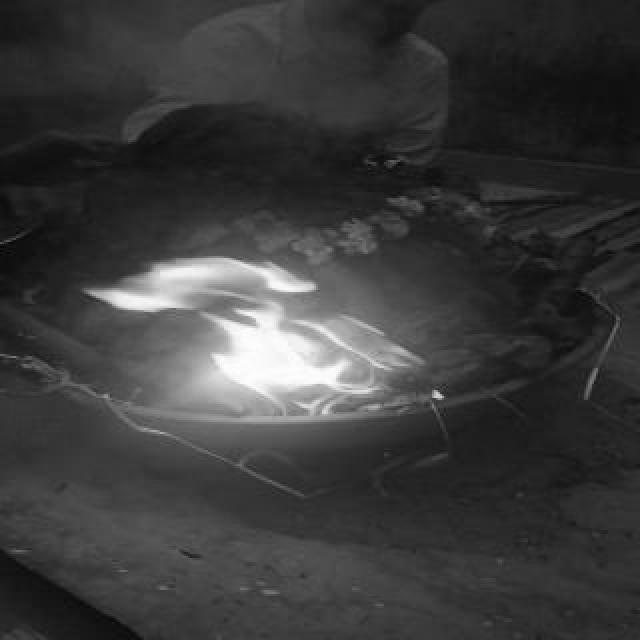fire: (118, 252, 406, 416)
